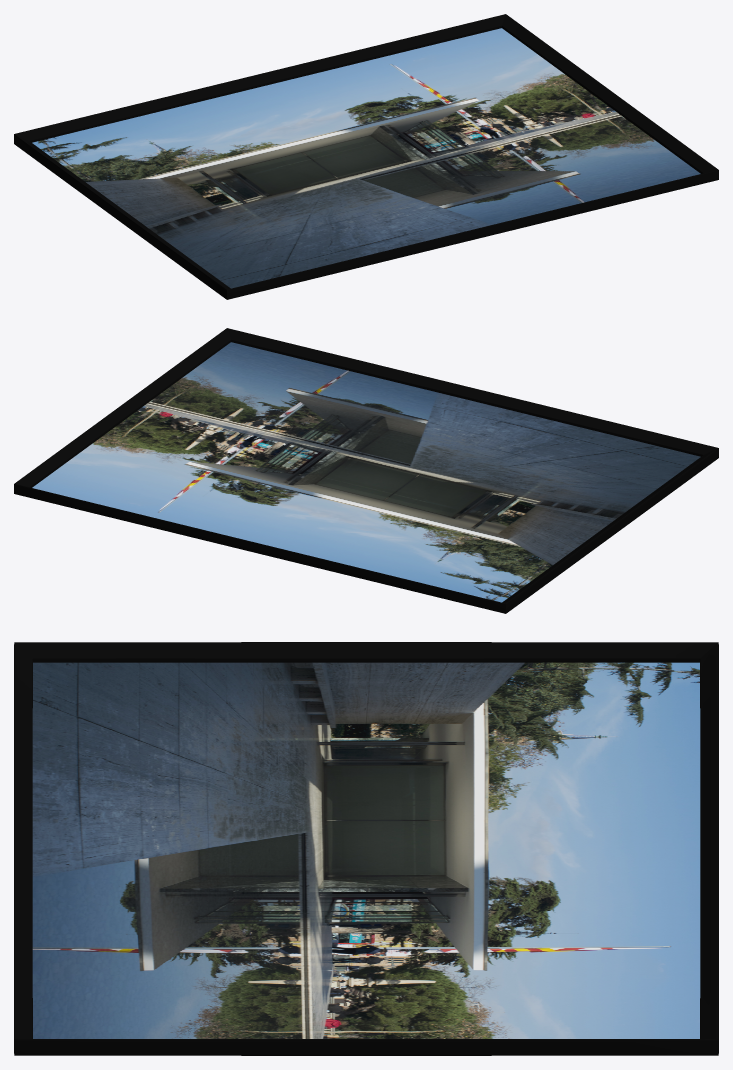
Rendered from PictureFrame.FBX.
3 renders of one model, top to bottom at view 1: azimuth 30°, elevation 25°; view 2: azimuth 150°, elevation 25°; view 3: azimuth 270°, elevation 25°, orthographic. The views are drawn at different scales.
Parts seen in each view (by area): view 1: Picture_Image, Picture_Frame; view 2: Picture_Image, Picture_Frame; view 3: Picture_Image, Picture_Frame.
Part boxes in pixels (left/top/right/bottom): Picture_Image: left=32, top=28, right=700, bottom=288; Picture_Frame: left=14, top=14, right=718, bottom=299; Picture_Image: left=32, top=342, right=700, bottom=602; Picture_Frame: left=14, top=328, right=718, bottom=613; Picture_Image: left=32, top=662, right=700, bottom=1038; Picture_Frame: left=14, top=642, right=718, bottom=1055.
Bounding box in the file's own units: 100 × 1.99 × 75.
2 materials, 1 textured.
